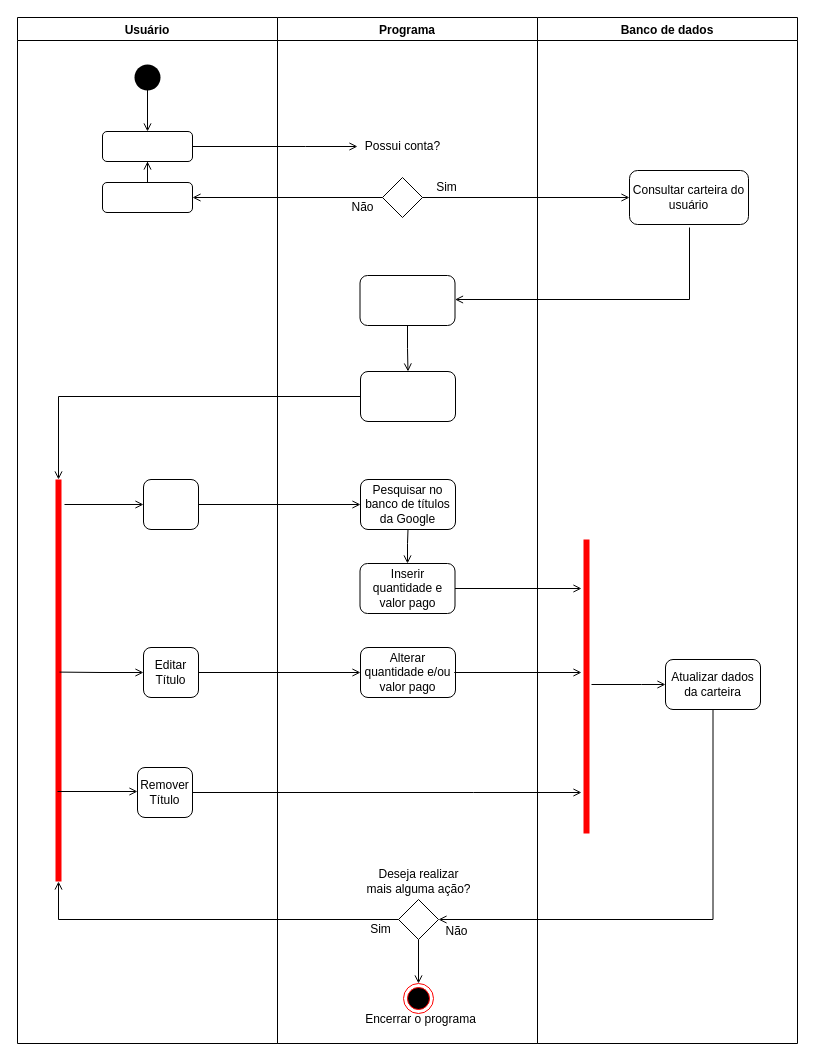
Image size: 815x1061. Some labels were removed from this diagram. Here are the shapes that lost their labels. From the top down, the centre of each, then its label:
point (147, 146): Entrar
point (147, 197): Criar uma conta
point (407, 300): Exibir títulos comprados pelo usuário
point (408, 396): Exibir ações do programa
point (170, 504): Adicionar Título
